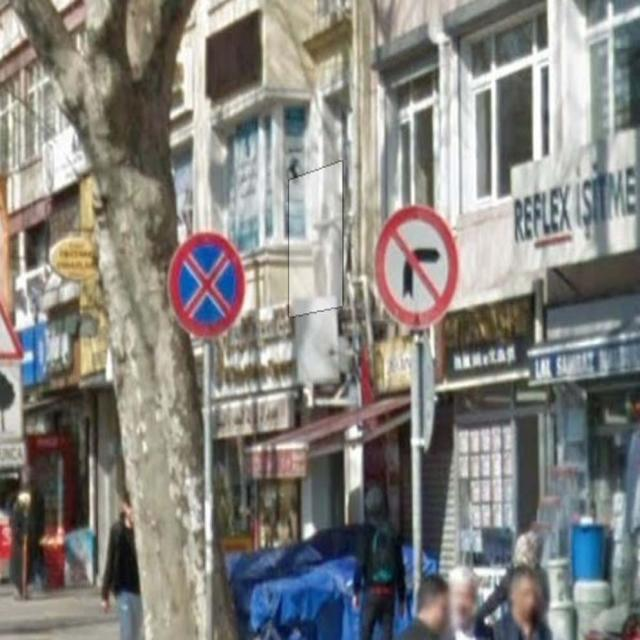sagadonulmez: (374, 206, 458, 327)
